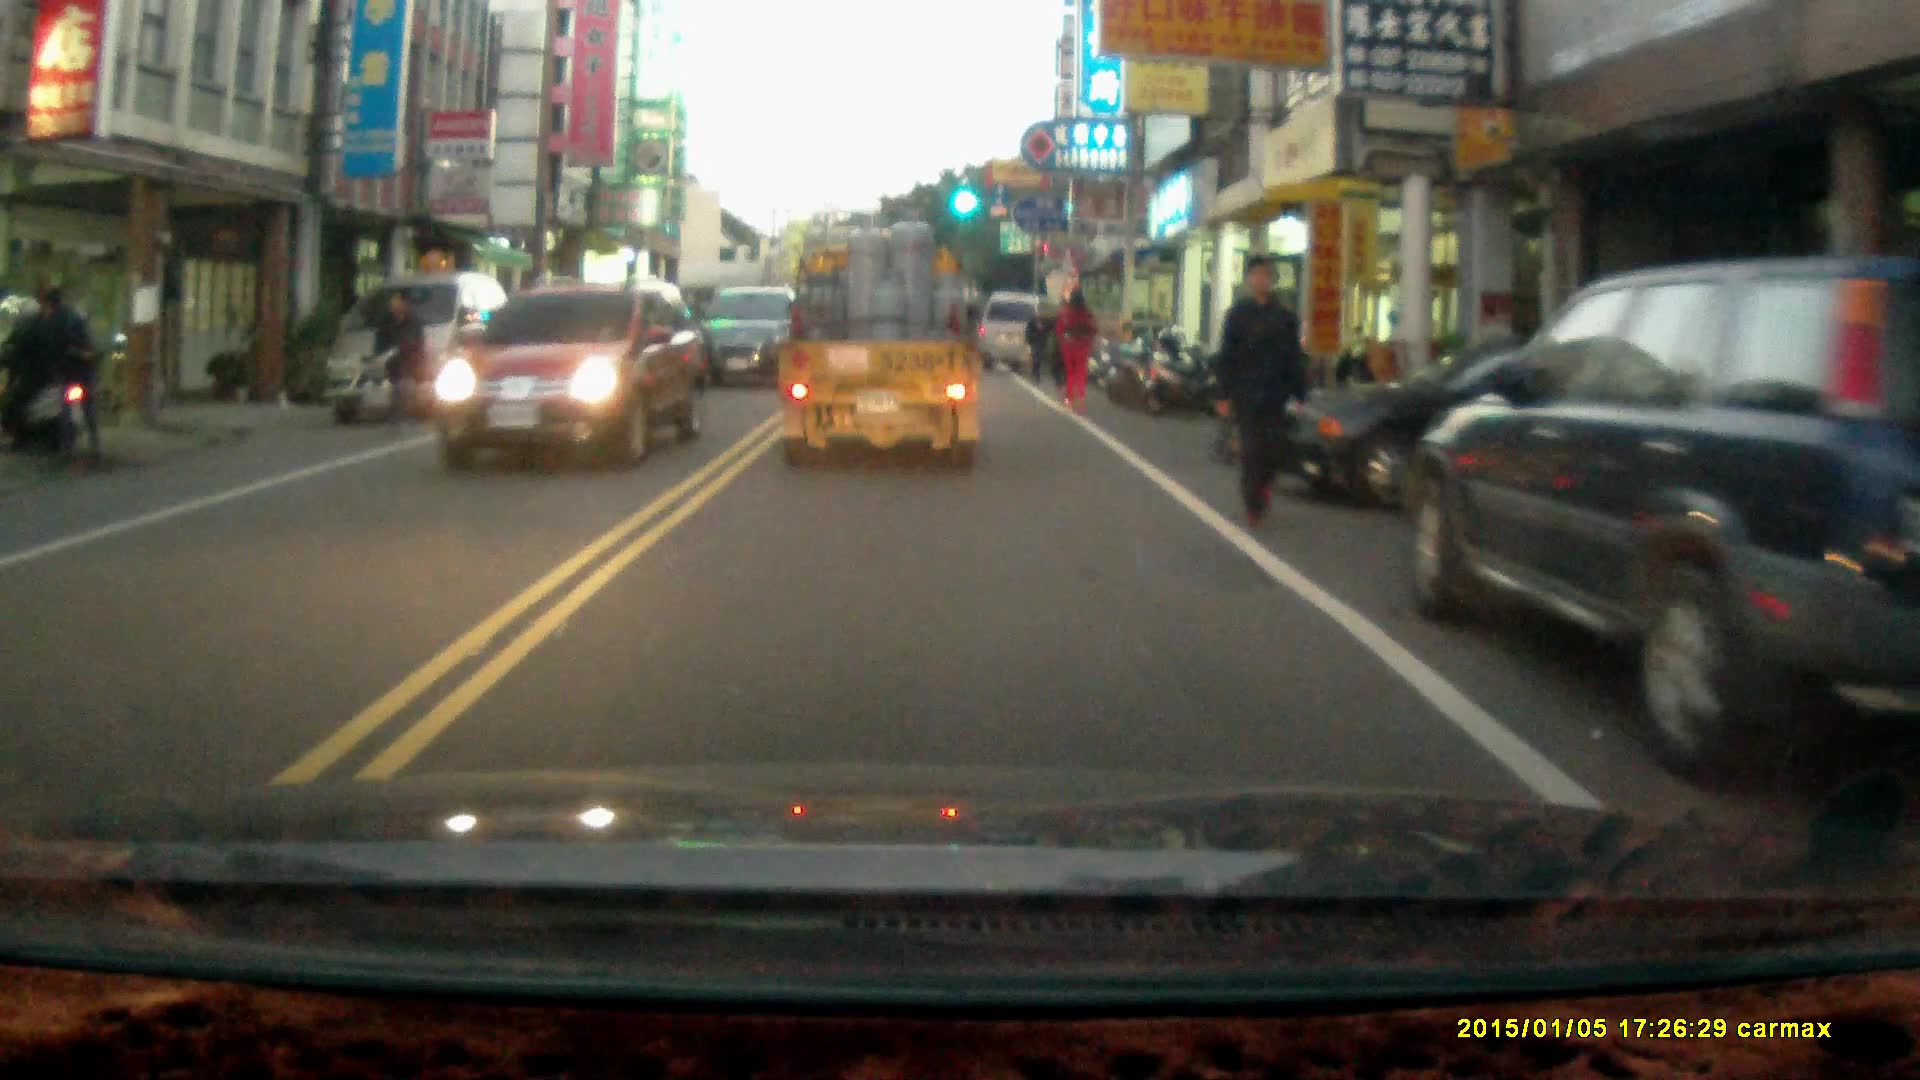pedestrian: (1214, 250, 1309, 533), (37, 279, 110, 462), (372, 289, 425, 433), (1053, 280, 1094, 409), (1023, 300, 1055, 383)
rider: (0, 291, 87, 458)
vehicle: (1398, 252, 1918, 804), (1279, 342, 1749, 510), (775, 207, 984, 476), (424, 279, 710, 467), (694, 281, 798, 390), (984, 288, 1062, 376)
